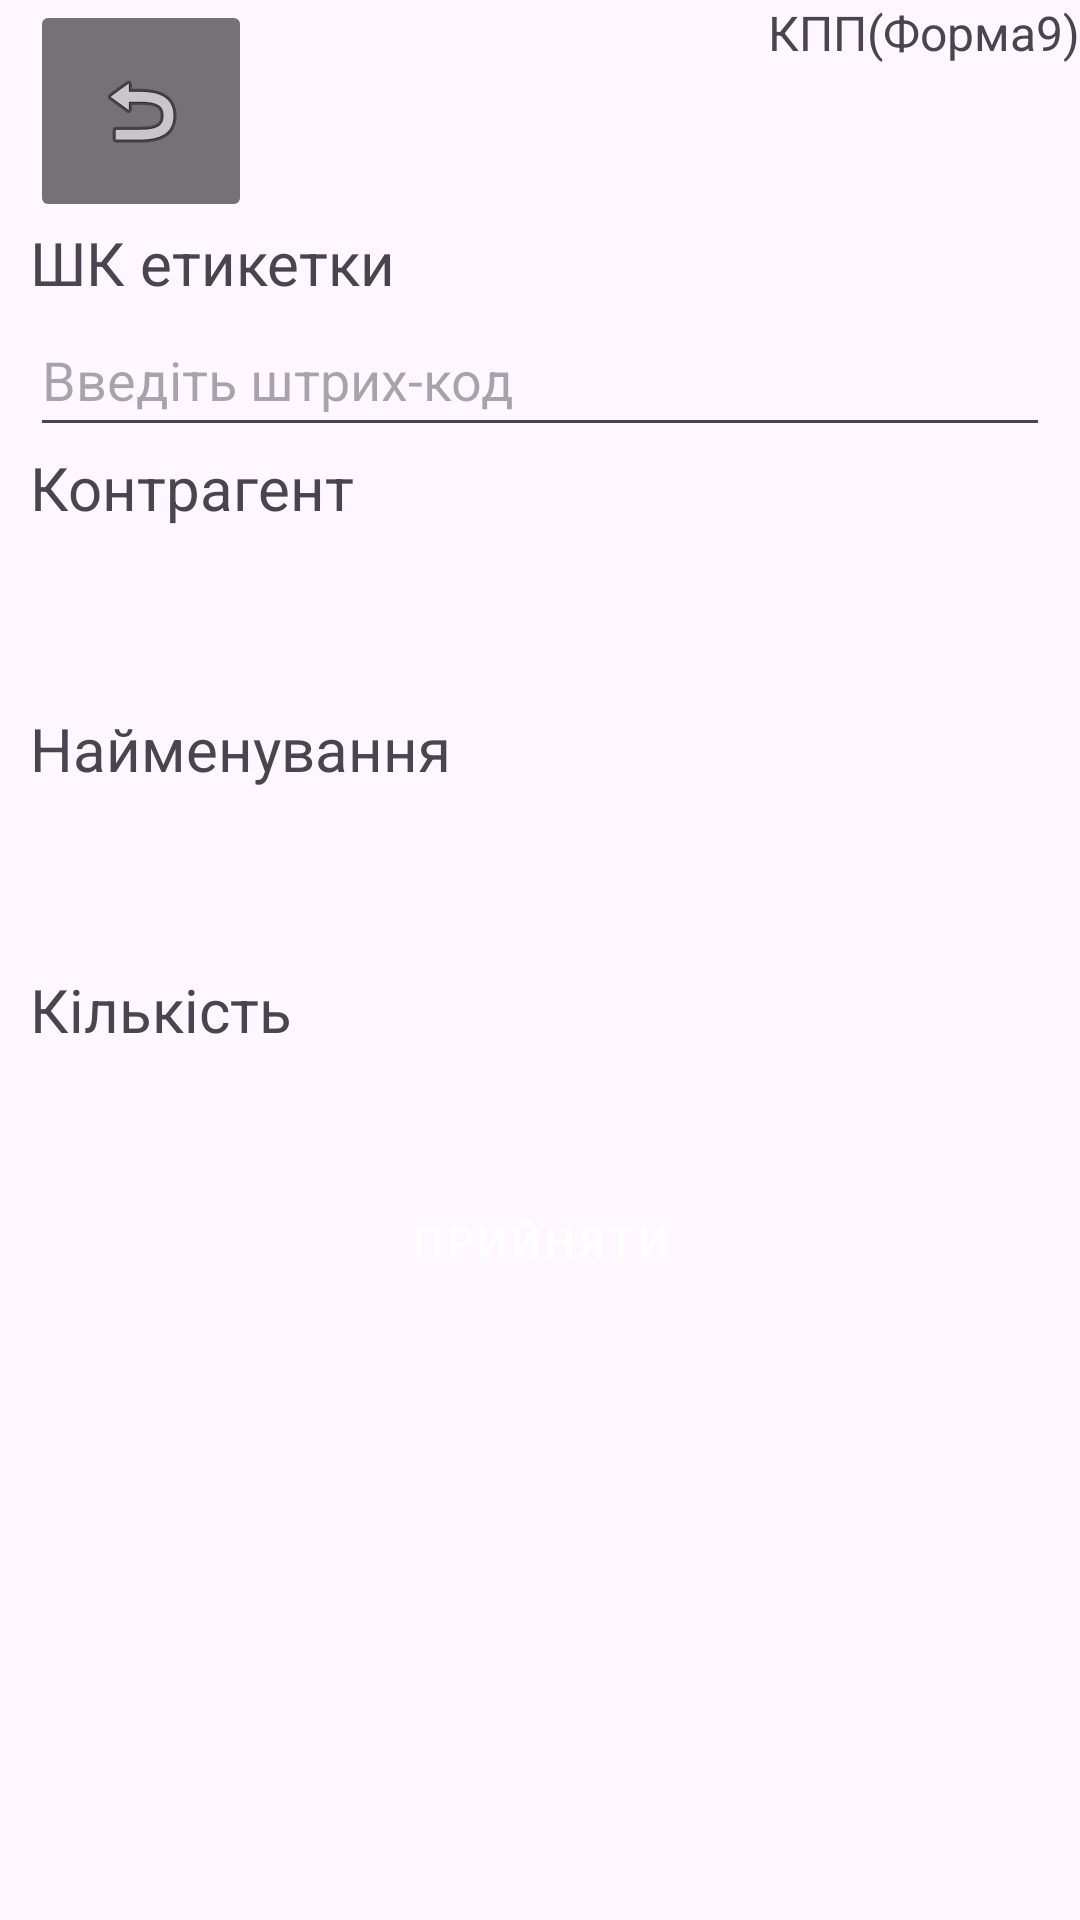

Icons on this 1080*1920 Android screen, each with its box as (x1, y1, x2, y2):
На головну: (42, 18, 240, 204)
